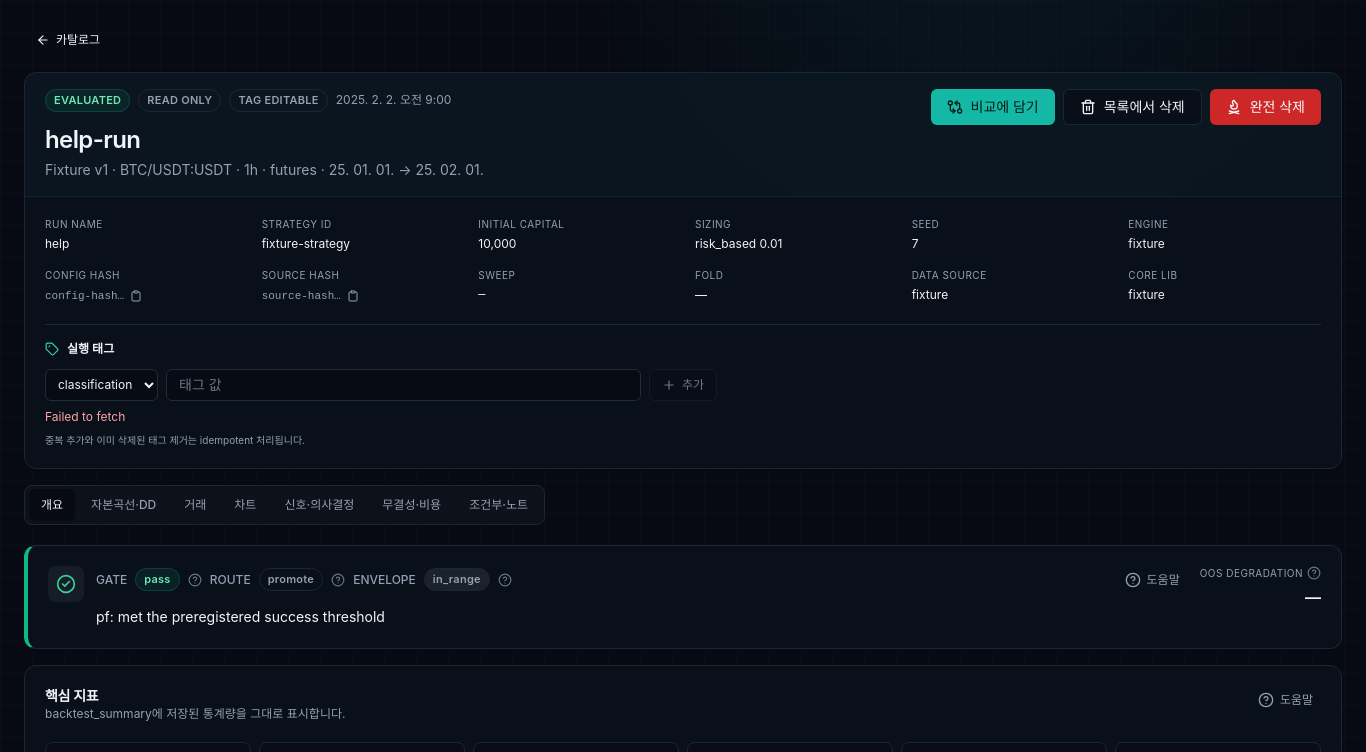
Test: 백테스트 세부 정보 값 도움말 › 판정 배지마다 그 값이 무엇을 뜻하는지 열 수 있다
Click the button named "ROUTE 설명 보기": click(338, 580) left=327, top=568, right=349, bottom=590
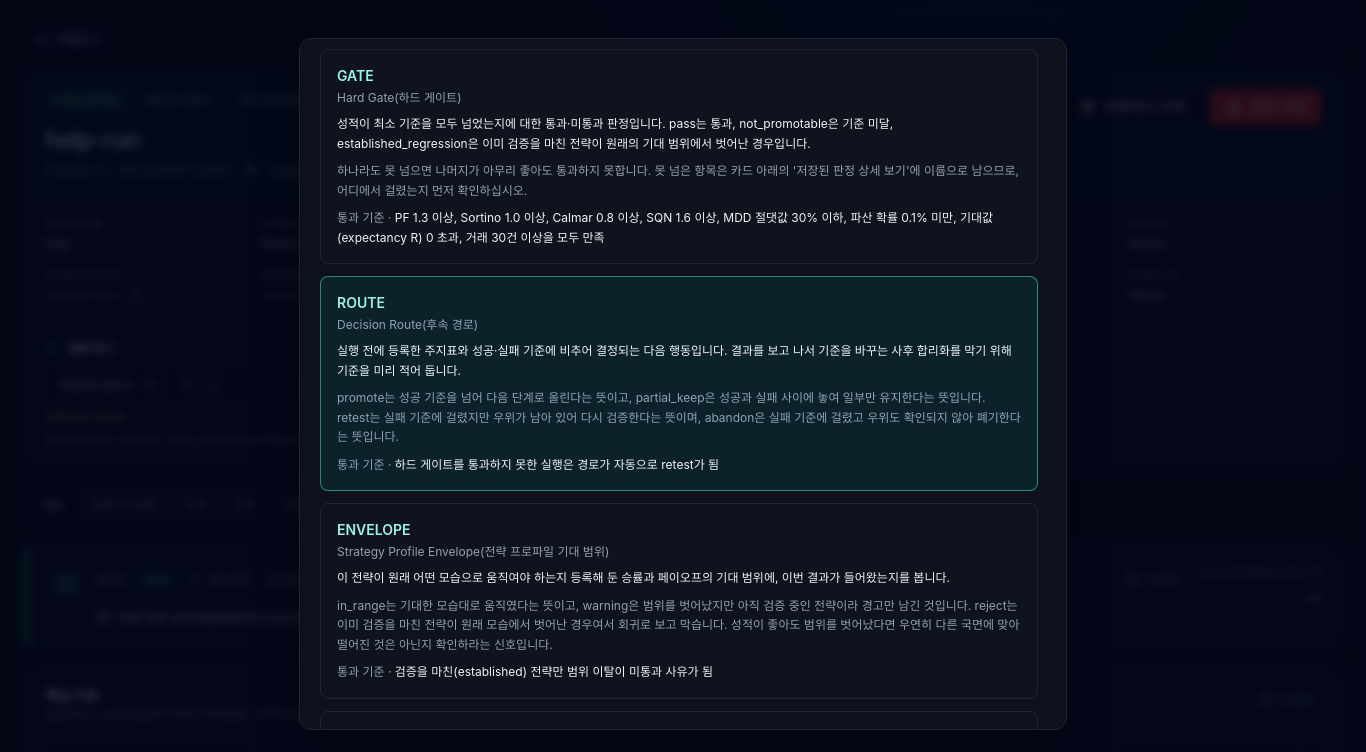
Expected: the element "ROUTE" shows "promote는 성공 기준을 넘어", left=337, top=390, right=1021, bottom=444
Expected: the element "ROUTE" shows "abandon은 실패 기준에 걸렸고", left=337, top=390, right=1021, bottom=444
